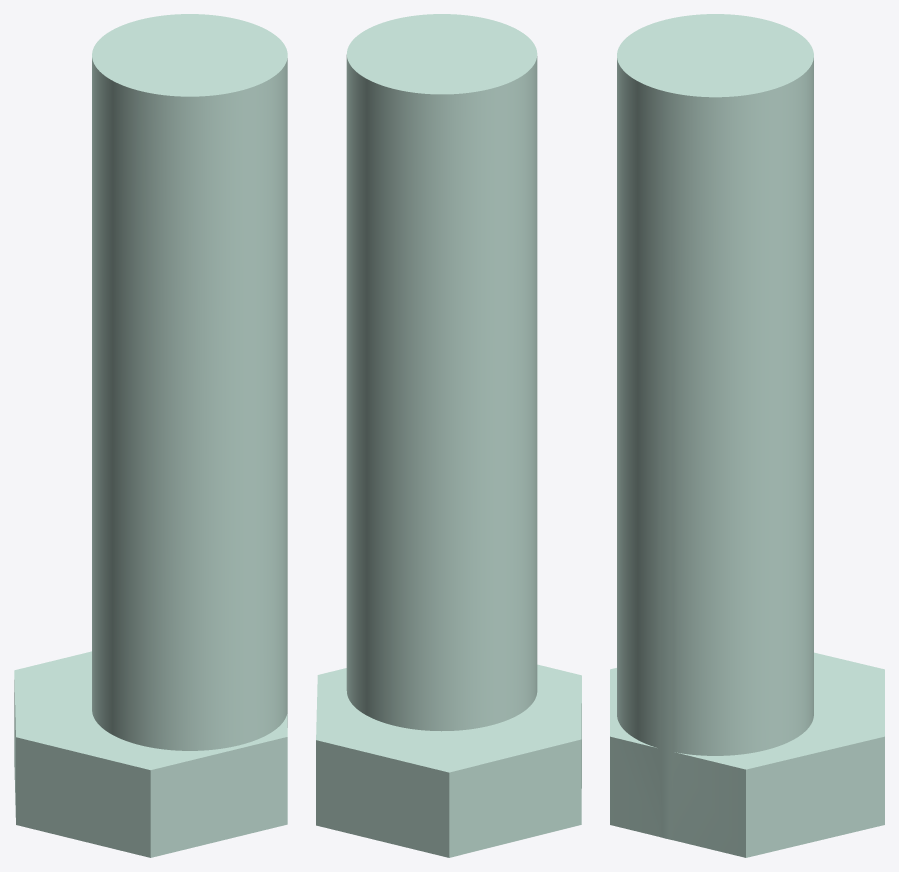
The picture shows the model from 3 angles, left to right: view 1: azimuth 30°, elevation 25°; view 2: azimuth 150°, elevation 25°; view 3: azimuth 270°, elevation 25°; orthographic projection. The views are drawn at different scales.
Visible parts, largest first — view 1: Renderer Node; view 2: Renderer Node; view 3: Renderer Node.
Part boxes in pixels (left/top/right/bottom): Renderer Node: left=14, top=14, right=287, bottom=857; Renderer Node: left=316, top=14, right=581, bottom=857; Renderer Node: left=610, top=14, right=884, bottom=857.
Size of the model in its own units: 0.2779 by 0.7266 by 0.2422.
